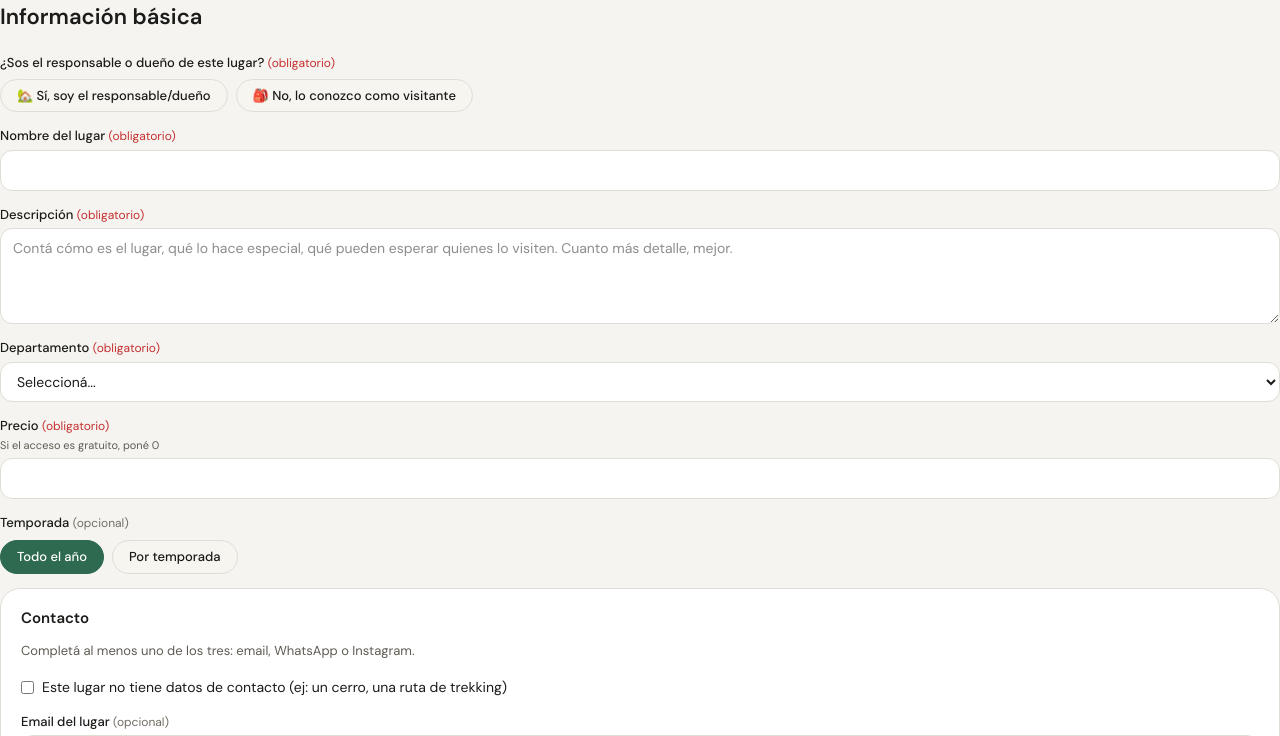
Test: StepInfoBasica: ¿responsable o visitante? › pregunta, y cada respuesta explica qué pasa después
Expected: the text "¿Sos el responsable o dueño de este lugar?" is shown, [0,54,264,71]
Click the button "🎒 No, lo conozco como visitante": point(354, 95) [236,78,473,112]
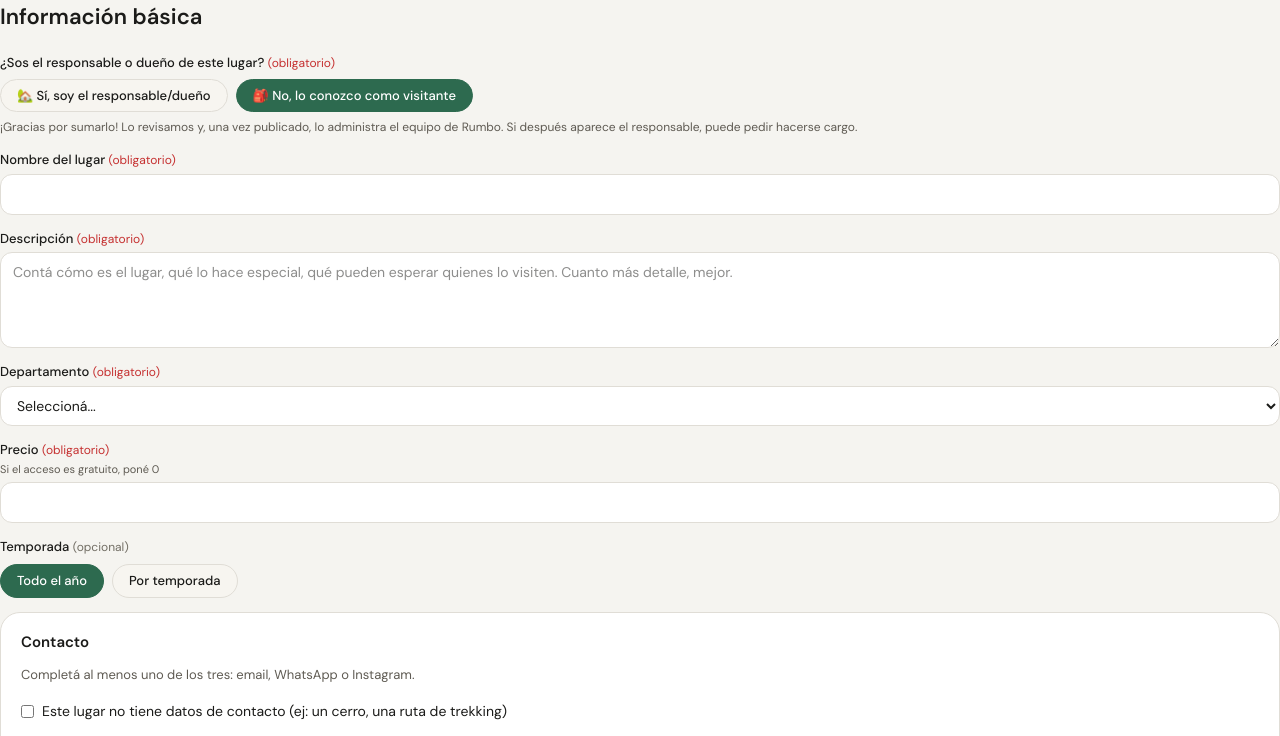
Expected: the text "una vez publicado, lo administra el equipo de Rumbo" is shown, [0,119,857,135]
Click the button "🏡 Sí, soy el responsable/dueño": point(114, 95) [0,78,228,112]
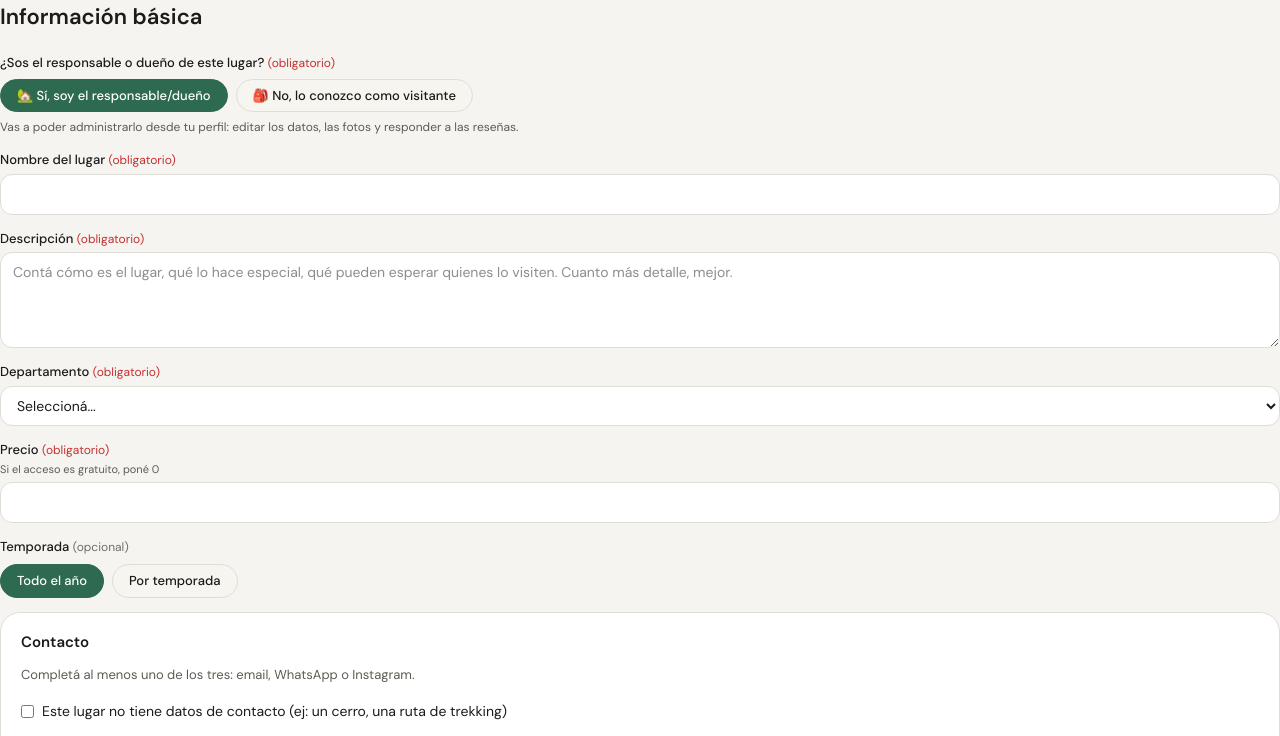
Expected: the text "Vas a poder administrarlo desde tu perfil" is shown, [0,119,518,135]
